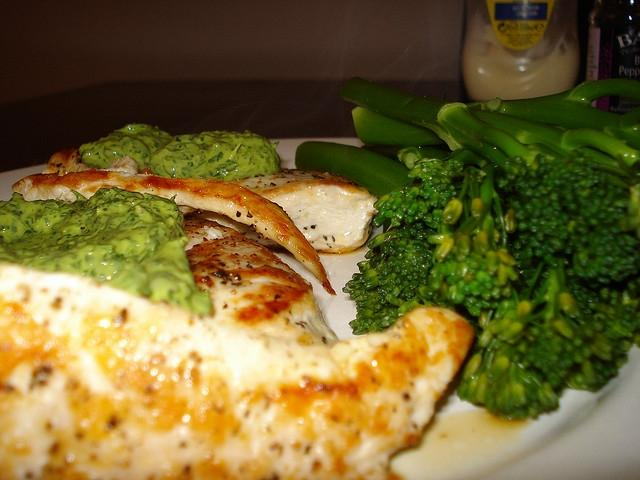broccoli: (339, 76, 635, 288), (456, 256, 640, 420), (418, 164, 518, 317), (376, 222, 437, 304), (352, 106, 448, 148)
